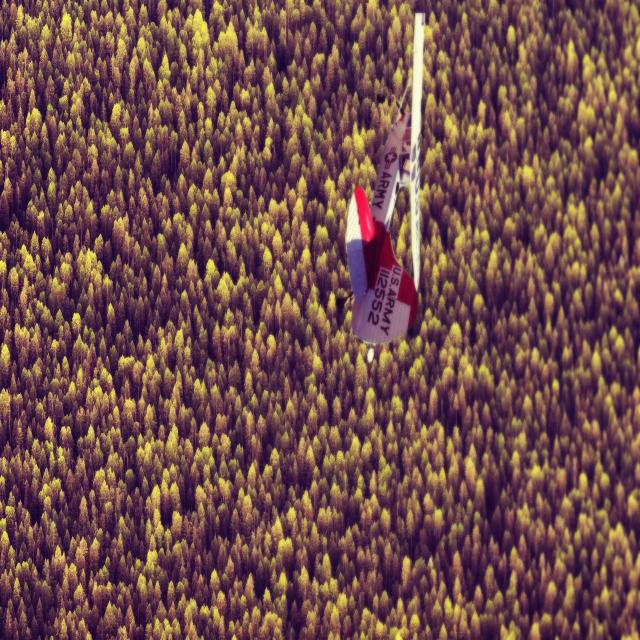airplane: (344, 11, 426, 348)
